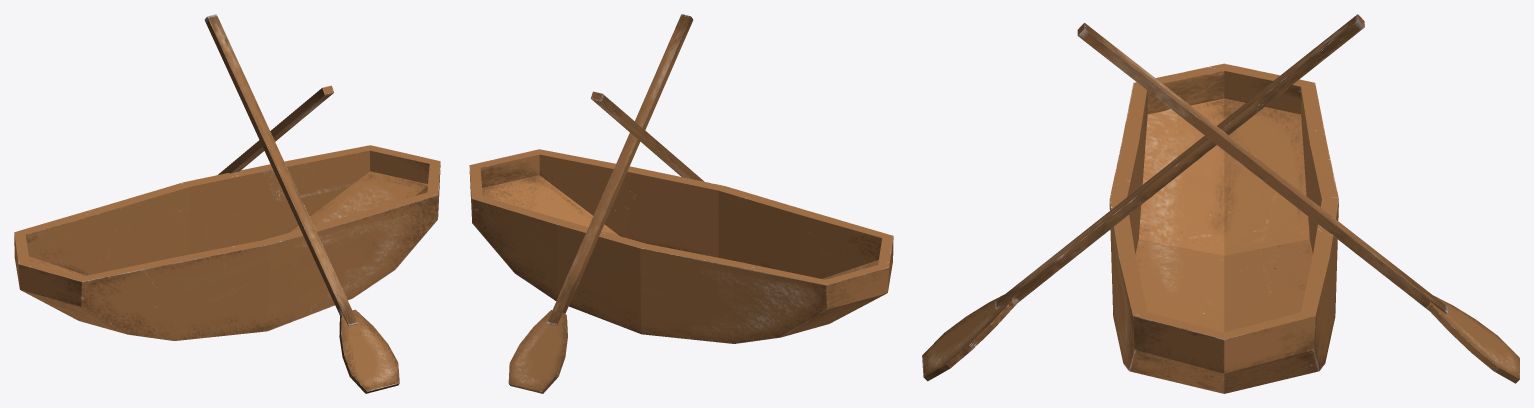
Rendered from canoa__para_texturizar_.obj.
3 renders of one model, left to right at view 1: azimuth 30°, elevation 25°; view 2: azimuth 150°, elevation 25°; view 3: azimuth 270°, elevation 25°, orthographic. The views are drawn at different scales.
Parts seen in each view (by area): view 1: canoa_, Cube.004, Cube.003, Cube.001; view 2: canoa_, Cube.001, Cube.002, Cube.004; view 3: canoa_, Cube.001, Cube.004, Cube.003, Cube.002.
Part boxes in pixels (x1=…): canoa_: x1=14, y1=145, x2=440, y2=340; Cube.004: x1=204, y1=14, x2=358, y2=326; Cube.003: x1=339, y1=309, x2=399, y2=393; Cube.001: x1=218, y1=85, x2=333, y2=174; canoa_: x1=469, y1=149, x2=893, y2=343; Cube.001: x1=547, y1=14, x2=693, y2=325; Cube.002: x1=508, y1=310, x2=567, y2=393; Cube.004: x1=590, y1=91, x2=704, y2=181; canoa_: x1=1109, y1=63, x2=1338, y2=393; Cube.001: x1=1077, y1=23, x2=1447, y2=313; Cube.004: x1=995, y1=14, x2=1364, y2=309; Cube.003: x1=922, y1=294, x2=1016, y2=381; Cube.002: x1=1426, y1=295, x2=1519, y2=383.
Size of the model in its own units: 9.22 by 5.41 by 8.43.
1 material, 1 textured.
